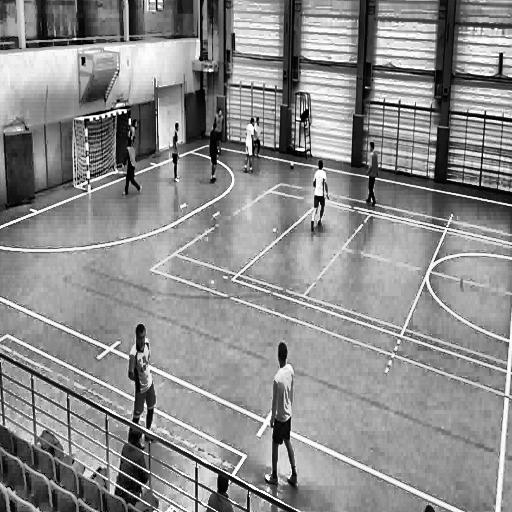ball: (287, 162, 296, 170)
player: (264, 340, 299, 489), (127, 320, 160, 446), (307, 156, 330, 236), (120, 138, 140, 199), (364, 140, 379, 209), (207, 120, 222, 186), (170, 122, 182, 186), (243, 116, 255, 178), (212, 107, 226, 154), (252, 115, 264, 159), (125, 116, 138, 150)
